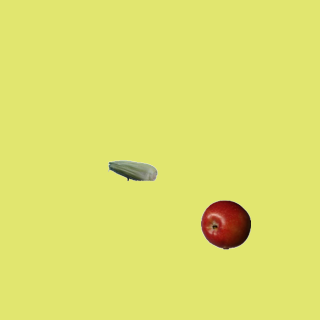Apple Braeburn: (200, 199, 250, 249)
Corn Husk: (107, 145, 157, 195)
